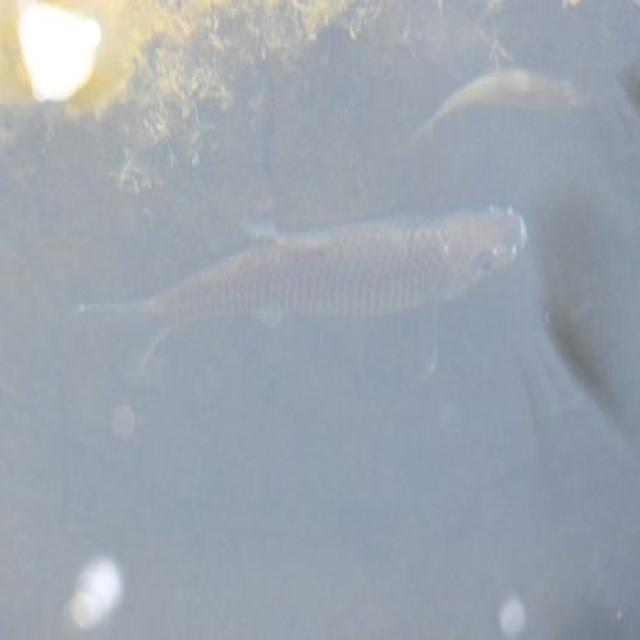Cakil Baligi: (82, 193, 532, 403)
